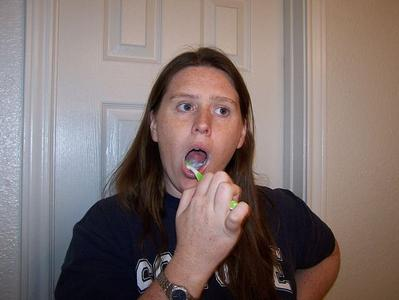person: (57, 48, 340, 300)
